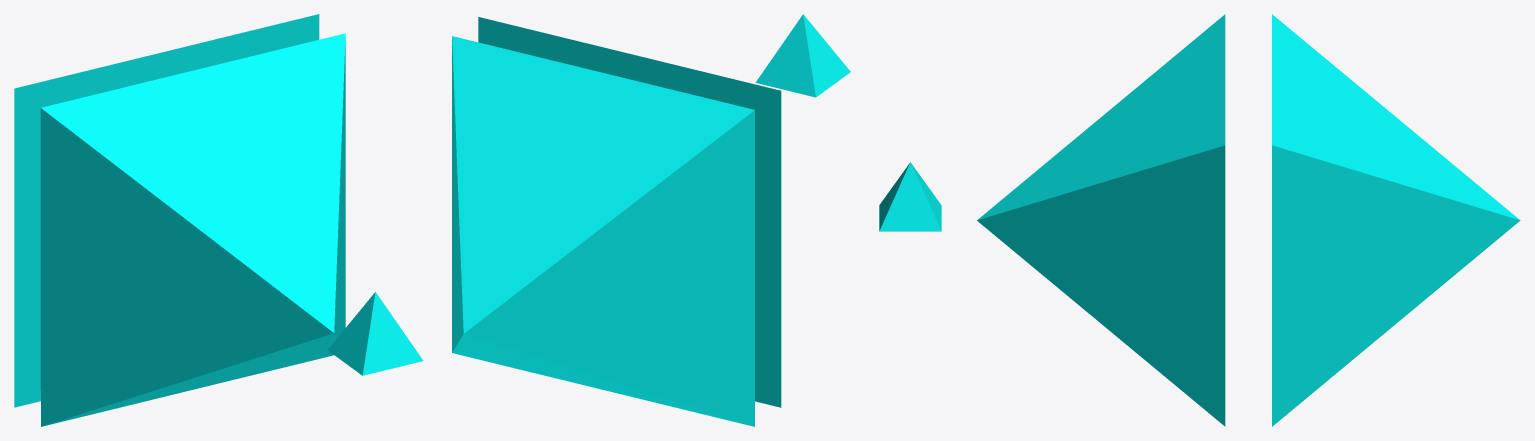
The model's file is Artifact.fbx.
3 views of the same model, side by side, from view 1: azimuth 30°, elevation 25°; view 2: azimuth 150°, elevation 25°; view 3: azimuth 270°, elevation 25° (orthographic). The views are drawn at different scales.
Visible parts, largest first — view 1: Pyramid (×3); view 2: Pyramid (×3); view 3: Pyramid (×3).
Part boxes in pixels (x1,y1,x2,y2): Pyramid (×3): [14, 14, 423, 426]; Pyramid (×3): [452, 14, 850, 426]; Pyramid (×3): [879, 14, 1520, 426].
Size of the model in its own units: 0.5002 by 0.5001 by 1.03.
Materials: 1 (1 with a texture image).
